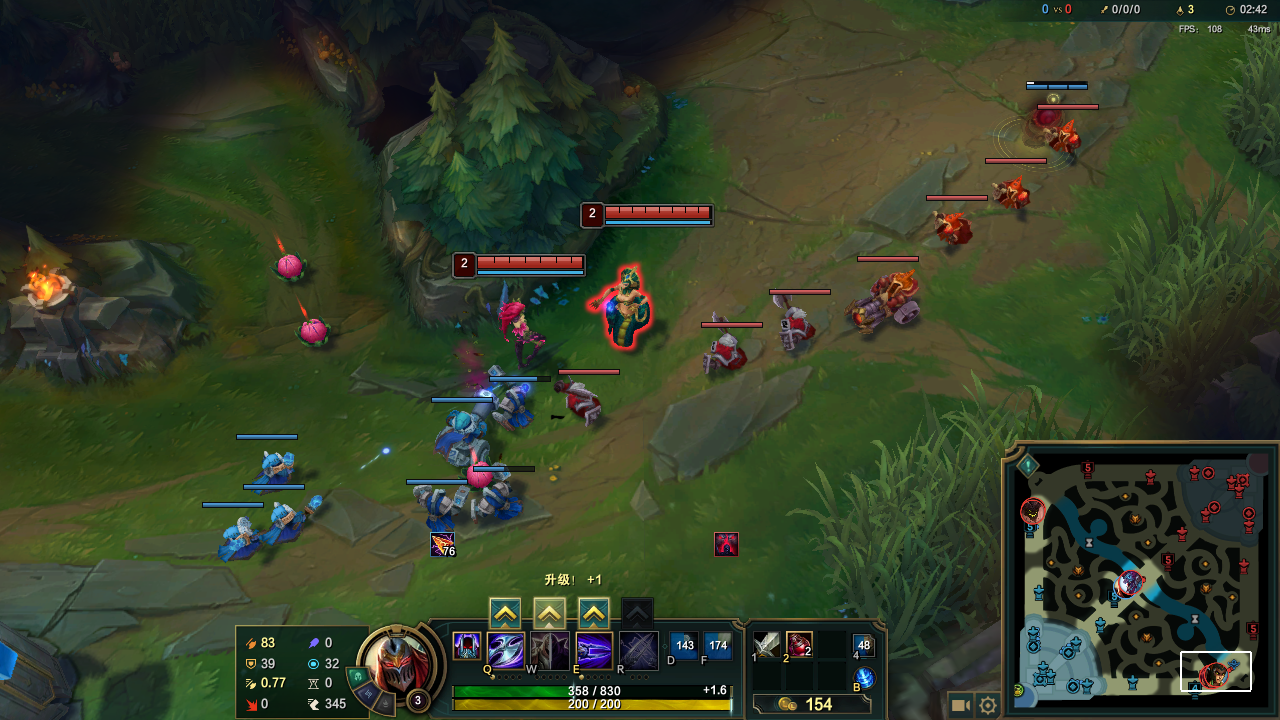DFYX: (477, 254, 582, 271), (601, 205, 712, 219)
WFXB: (439, 400, 496, 475)
